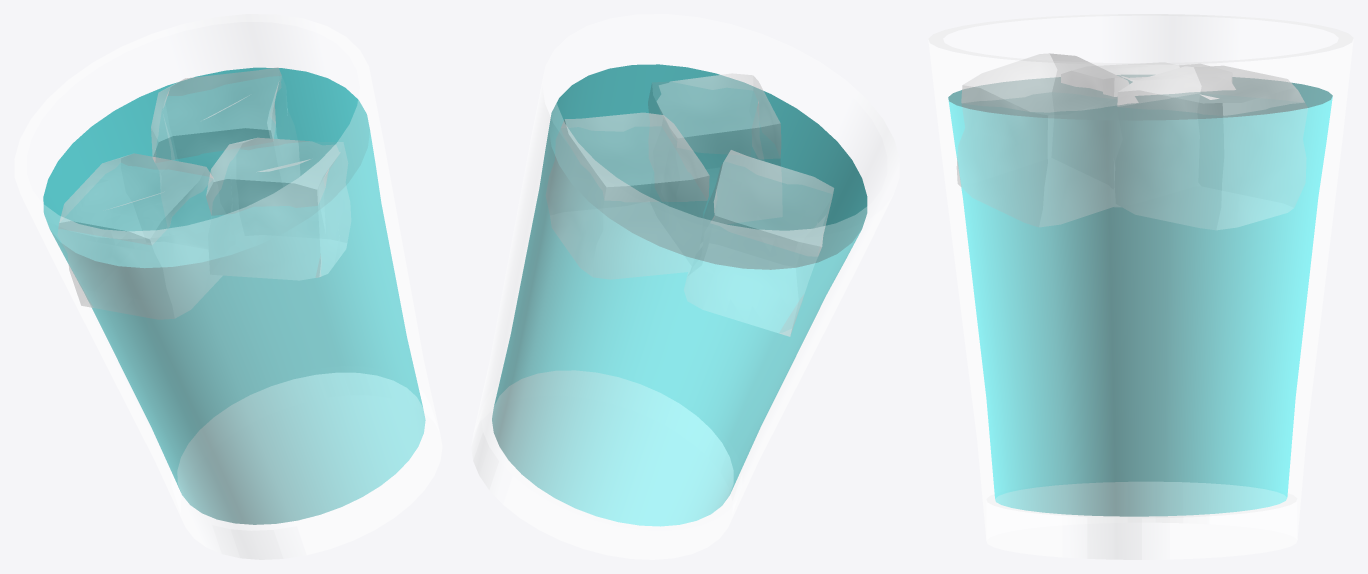
The model's file is Hydrogen.glb.
3 renders of one model, left to right at view 1: azimuth 30°, elevation 25°; view 2: azimuth 150°, elevation 25°; view 3: azimuth 270°, elevation 25°, orthographic. The views are drawn at different scales.
Parts seen in each view (by area): view 1: Cup_02 - Default_0, Cup_03 - Default_0, Cup_07 - Default_0; view 2: Cup_02 - Default_0, Cup_03 - Default_0, Cup_07 - Default_0; view 3: Cup_02 - Default_0, Cup_03 - Default_0, Cup_07 - Default_0.
Boxes of the visible parts, x1,y1,x2,y2 form: Cup_02 - Default_0: (14, 14, 442, 559); Cup_03 - Default_0: (43, 67, 425, 524); Cup_07 - Default_0: (58, 67, 340, 307); Cup_02 - Default_0: (471, 14, 899, 559); Cup_03 - Default_0: (492, 64, 867, 526); Cup_07 - Default_0: (561, 73, 833, 336); Cup_02 - Default_0: (928, 14, 1353, 559); Cup_03 - Default_0: (948, 75, 1332, 516); Cup_07 - Default_0: (957, 53, 1304, 186).
Bounding box in the file's own units: 2.59 × 3.04 × 2.17.
